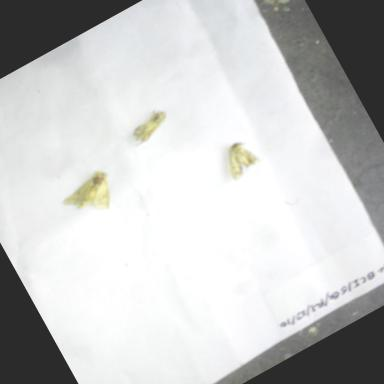abw: (51, 162, 130, 234), (212, 128, 276, 192), (118, 98, 184, 156)
